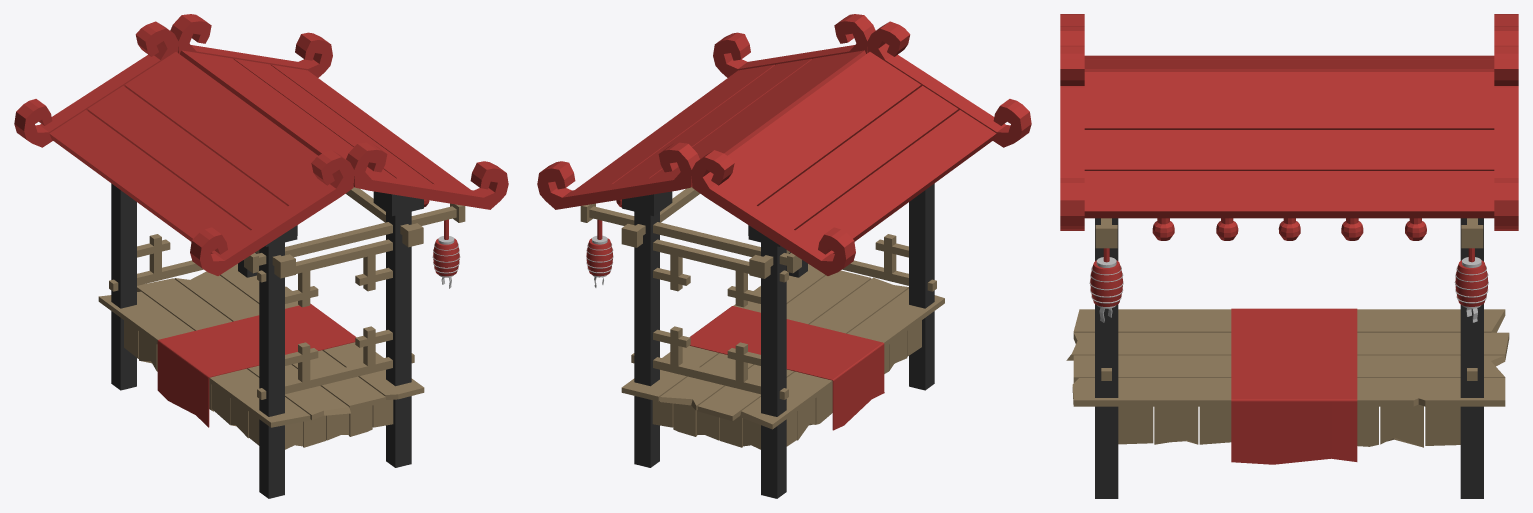
Rendered from AsiaTezgah1.fbx.
The picture shows the model from 3 angles, left to right: view 1: azimuth 30°, elevation 25°; view 2: azimuth 150°, elevation 25°; view 3: azimuth 270°, elevation 25°; orthographic projection. The views are drawn at different scales.
Parts seen in each view (by area): view 1: Cube.001; view 2: Cube.001; view 3: Cube.001.
Boxes of the visible parts, box(x1,y1,x2,y2) form: Cube.001: box(14, 14, 508, 498); Cube.001: box(537, 14, 1031, 498); Cube.001: box(1060, 14, 1518, 498).
Size of the model in its own units: 699 by 730 by 727.
